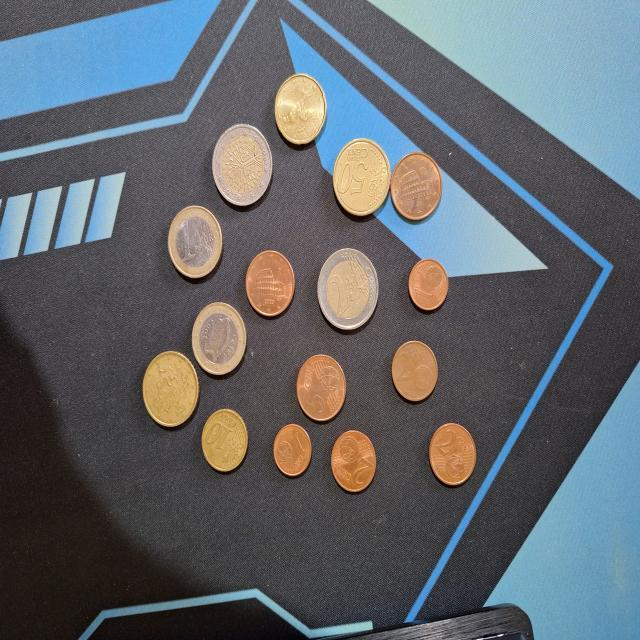10c: (200, 406, 250, 475)
1c: (407, 258, 450, 314), (272, 422, 314, 478)
1e: (190, 301, 248, 377), (166, 206, 223, 281)
20c: (274, 74, 328, 148)
2c: (428, 421, 477, 488), (390, 339, 438, 404), (330, 430, 378, 493)
2e: (316, 245, 381, 333), (211, 123, 273, 210)
50c: (332, 136, 392, 220), (140, 348, 200, 429)
5c: (390, 150, 443, 224), (244, 246, 296, 320), (295, 352, 346, 422)
